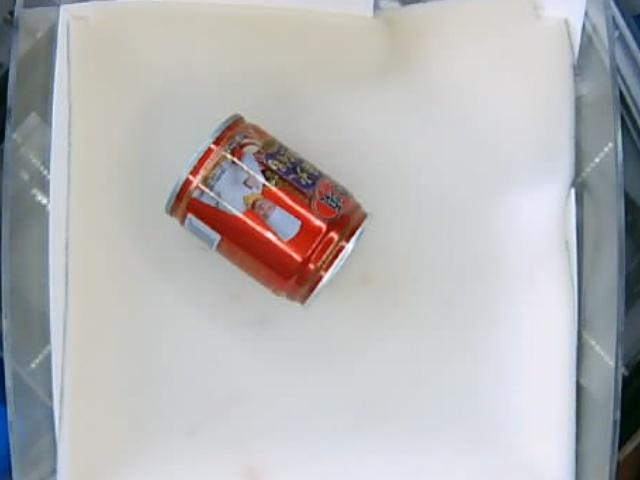Bottle: (167, 113, 371, 307)
